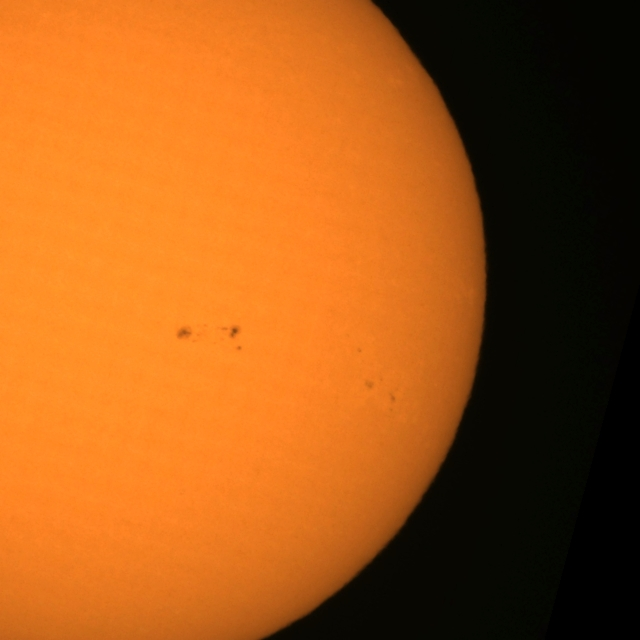sunspot: (173, 322, 234, 346), (364, 376, 394, 404), (174, 324, 206, 344), (220, 323, 243, 343), (363, 378, 376, 392), (234, 344, 244, 353), (356, 346, 364, 355)
